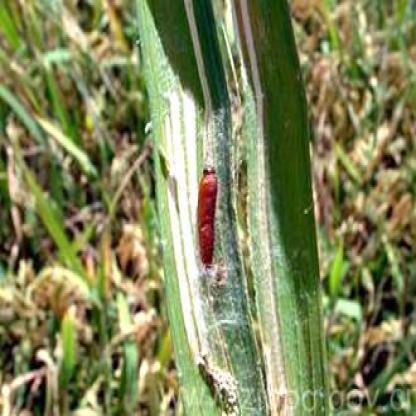leaf-folder: (186, 157, 239, 275)
